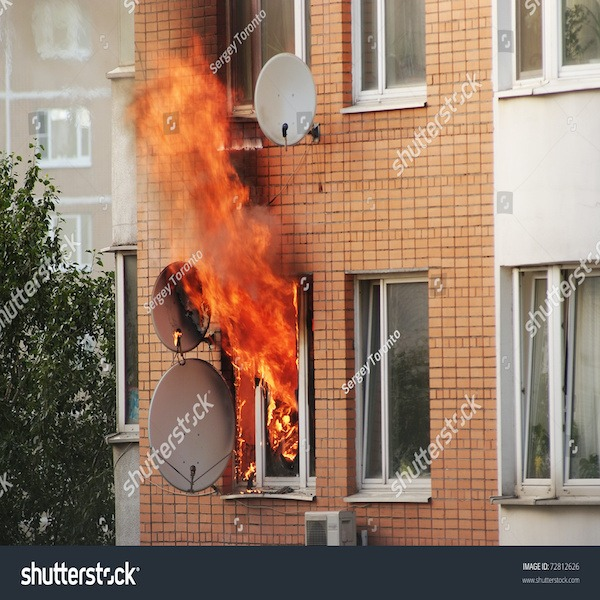fire: (138, 70, 266, 253), (199, 268, 297, 368), (253, 358, 299, 449)
